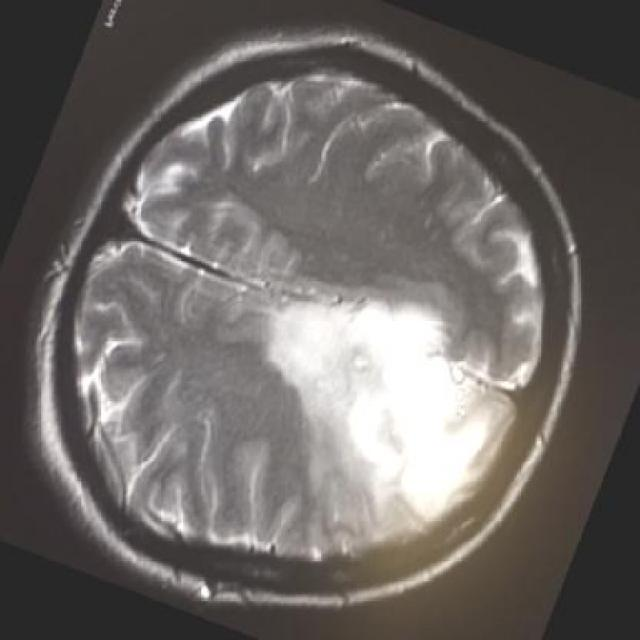Brain-Tumor: (254, 288, 509, 562)
